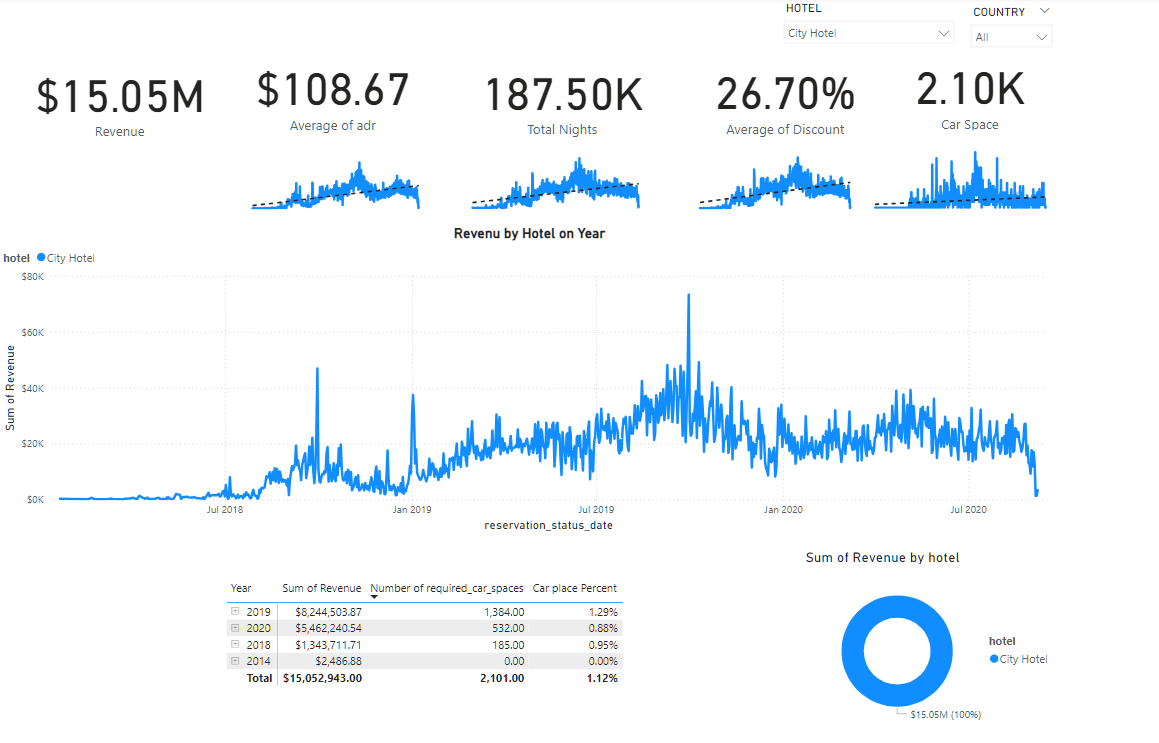

The page's visual inventory and layout, read from the dashboard file:
{"tool":"powerbi","page":{"name":"Page 1","canvas":[1400,900],"ordinal":0},"visuals":[{"type":"card","fields":{"Values":["Sum(Query1.Revenue)"]},"box":[23.3,72.7,247,101.5],"z":0},{"type":"card","fields":{"Values":["Avg(Query1.adr)"]},"box":[285.4,57.6,236,116.6],"z":1000},{"type":"card","fields":{"Values":["Query1.Total Night"]},"box":[557.1,57.6,247,127.6],"z":2000},{"type":"card","fields":{"Values":["Avg(Query1.Discount)"]},"box":[830.2,57.6,236,126.2],"z":3000},{"type":"lineChart","title":"Revenu by Hotel on Year","fields":{"Y":["Sum(Query1.Revenue)"],"Category":["Query1.reservation_status_date"],"Series":["Query1.hotel"]},"box":[0,274.5,1280.3,375.5],"z":4000},{"type":"slicer","fields":{"Values":["Query1.country"]},"box":[1162.3,4.1,118,81],"z":5000},{"type":"slicer","title":"HOTEL","fields":{"Values":["Query1.hotel"]},"box":[936.5,0,226.2,72.4],"z":6000},{"type":"card","fields":{"Values":["Sum(Query1.required_car_parking_spaces)"]},"box":[1064.7,63.3,214.1,102.5],"z":7000},{"type":"lineChart","fields":{"Category":["Query1.reservation_status_date"],"Y":["Sum(Query1.adr)"]},"box":[290.9,174.3,230.5,86.4],"z":8000},{"type":"lineChart","fields":{"Category":["Query1.reservation_status_date"],"Y":["Query1.Total Night"]},"box":[557.1,170.2,230.5,90.6],"z":9000},{"type":"lineChart","fields":{"Category":["Query1.reservation_status_date"],"Y":["Sum(Query1.Discount)"]},"box":[830.2,174.3,211.3,86.4],"z":10000},{"type":"lineChart","fields":{"Category":["Query1.reservation_status_date"],"Y":["Sum(Query1.required_car_parking_spaces)"]},"box":[1041.5,166,236,94.7],"z":11000},{"type":"donutChart","fields":{"Category":["Query1.hotel"],"Y":["Sum(Query1.Revenue)"]},"box":[968.2,665.1,312.2,229.2],"z":12000},{"type":"pivotTable","fields":{"Rows":["Query1.reservation_status_date.Variation.Date Hierarchy.Year","Query1.hotel"],"Values":["Sum(Query1.Revenue)","Sum(Query1.required_car_parking_spaces)","Query1.Car place Percent"]},"box":[269.9,696.7,541.4,187],"z":13000}]}

Visuals, with their boxes in screenshot pixels (x1, y1, x2, y2), scaled from the page's 1400x900 canvas onto the 1159x743 screenshot:
card - Sum(Query1.Revenue): [x1=19, y1=60, x2=224, y2=144]
card - Avg(Query1.adr): [x1=236, y1=48, x2=432, y2=144]
card - Query1.Total Night: [x1=461, y1=48, x2=666, y2=153]
card - Avg(Query1.Discount): [x1=687, y1=48, x2=883, y2=152]
"Revenu by Hotel on Year" lineChart: [x1=0, y1=227, x2=1060, y2=537]
slicer - Query1.country: [x1=962, y1=3, x2=1060, y2=70]
"HOTEL" slicer: [x1=775, y1=0, x2=963, y2=60]
card - Sum(Query1.required_car_parking_spaces): [x1=881, y1=52, x2=1059, y2=137]
lineChart - Query1.reservation_status_date x Sum(Query1.adr): [x1=241, y1=144, x2=432, y2=215]
lineChart - Query1.reservation_status_date x Query1.Total Night: [x1=461, y1=141, x2=652, y2=215]
lineChart - Query1.reservation_status_date x Sum(Query1.Discount): [x1=687, y1=144, x2=862, y2=215]
lineChart - Query1.reservation_status_date x Sum(Query1.required_car_parking_spaces): [x1=862, y1=137, x2=1058, y2=215]
donutChart - Query1.hotel x Sum(Query1.Revenue): [x1=802, y1=549, x2=1060, y2=738]
pivotTable - Query1.reservation_status_date.Variation.Date Hierarchy.Year x Query1.hotel: [x1=223, y1=575, x2=672, y2=730]
